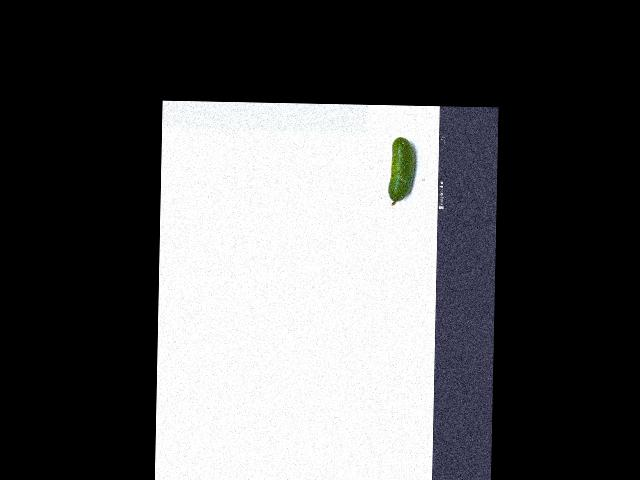cucumber: (388, 136, 415, 206)
